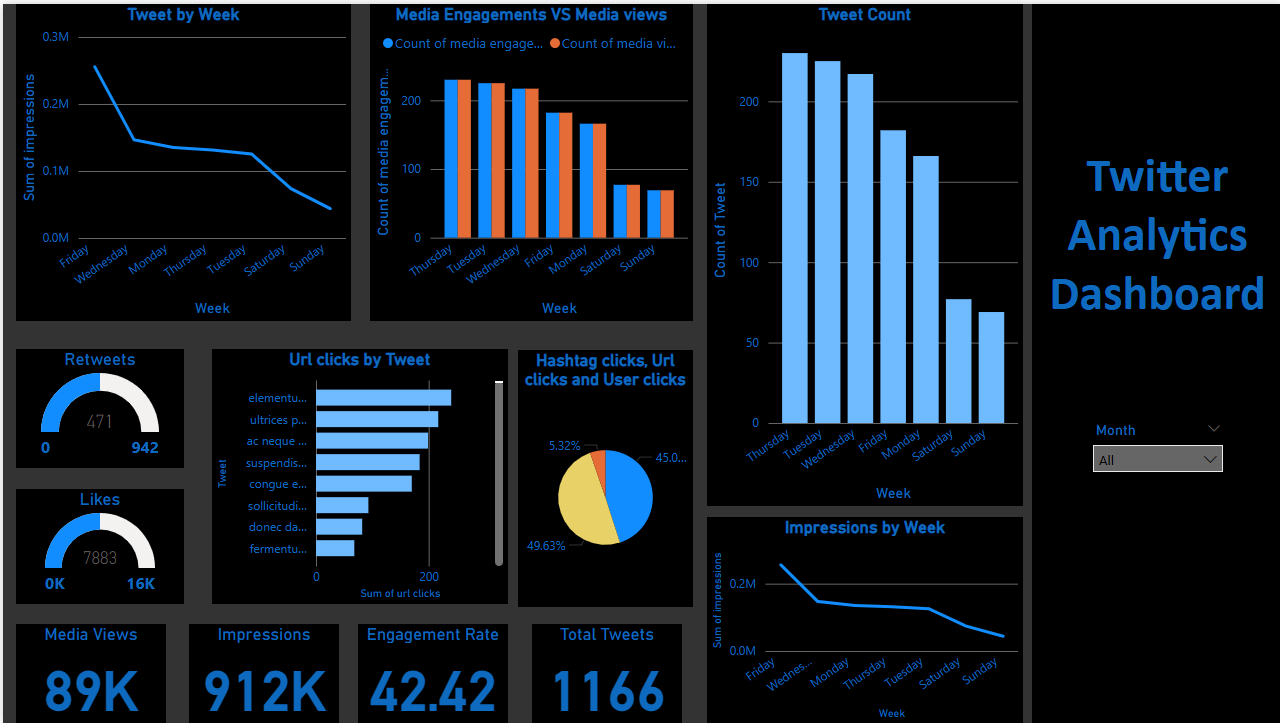

Layout of this report page (visuals, bound fields, positions):
{"tool":"powerbi","page":{"name":"Page 1","canvas":[1280,720],"ordinal":0},"visuals":[{"type":"textbox","box":[1029,0,251,720],"z":0},{"type":"card","title":"Media Views","fields":{"Values":["Sum(SocialMedia.media views)"]},"box":[13,620,150,100],"z":1000},{"type":"card","title":"Impressions","fields":{"Values":["Sum(SocialMedia.impressions)"]},"box":[186,620,150,100],"z":2000},{"type":"card","title":"Engagement Rate","fields":{"Values":["Sum(SocialMedia.engagement rate)"]},"box":[355,620,150,100],"z":3000},{"type":"card","title":"Total Tweets","fields":{"Values":["CountNonNull(SocialMedia.Tweet)"]},"box":[529,620,150,100],"z":4000},{"type":"gauge","title":"Likes","fields":{"Y":["Sum(SocialMedia.likes)"]},"box":[13,485,168,115],"z":5000},{"type":"gauge","title":"Retweets","fields":{"Y":["Sum(SocialMedia.retweets)"]},"box":[13,345,168,119],"z":6000},{"type":"slicer","fields":{"Values":["SocialMedia.Month"]},"box":[1080,413,150,62],"z":7000},{"type":"clusteredColumnChart","title":"Tweet Count","fields":{"Y":["CountNonNull(SocialMedia.Tweet)"],"Category":["SocialMedia.DayofWeek"]},"box":[704,0,316,502],"z":8000},{"type":"lineChart","title":"Impressions by Week","fields":{"Category":["SocialMedia.DayofWeek"],"Y":["Sum(SocialMedia.impressions)"]},"box":[704,513,316,207],"z":9000},{"type":"lineChart","title":"Tweet by Week","fields":{"Category":["SocialMedia.DayofWeek"],"Y":["Sum(SocialMedia.impressions)"]},"box":[13,0,335,317],"z":9001},{"type":"clusteredColumnChart","title":"Media Engagements VS Media views","fields":{"Category":["SocialMedia.DayofWeek"],"Y":["CountNonNull(SocialMedia.media engagements)","CountNonNull(SocialMedia.media views)"]},"box":[367,0,323,317],"z":9002},{"type":"clusteredBarChart","title":"Url clicks by Tweet","fields":{"Y":["Sum(SocialMedia.url clicks)"],"Category":["SocialMedia.Tweet"]},"box":[209,345,296,255],"z":9003},{"type":"pieChart","title":"Hashtag clicks, Url clicks and User clicks","fields":{"Y":["Sum(SocialMedia.user profile clicks)","Sum(SocialMedia.url clicks)","Sum(SocialMedia.hashtag clicks)"]},"box":[515,346,175,257],"z":9004}]}

Visuals, with their boxes in screenshot pixels (x1, y1, x2, y2), scaled from the page's 1280x720 canvas onto the 1280x723 screenshot:
textbox: {"left": 1029, "top": 0, "right": 1279, "bottom": 722}
"Media Views" card: {"left": 13, "top": 623, "right": 163, "bottom": 722}
"Impressions" card: {"left": 186, "top": 623, "right": 336, "bottom": 722}
"Engagement Rate" card: {"left": 355, "top": 623, "right": 505, "bottom": 722}
"Total Tweets" card: {"left": 529, "top": 623, "right": 679, "bottom": 722}
"Likes" gauge: {"left": 13, "top": 487, "right": 181, "bottom": 602}
"Retweets" gauge: {"left": 13, "top": 346, "right": 181, "bottom": 466}
slicer - SocialMedia.Month: {"left": 1080, "top": 415, "right": 1230, "bottom": 477}
"Tweet Count" clusteredColumnChart: {"left": 704, "top": 0, "right": 1020, "bottom": 504}
"Impressions by Week" lineChart: {"left": 704, "top": 515, "right": 1020, "bottom": 722}
"Tweet by Week" lineChart: {"left": 13, "top": 0, "right": 348, "bottom": 318}
"Media Engagements VS Media views" clusteredColumnChart: {"left": 367, "top": 0, "right": 690, "bottom": 318}
"Url clicks by Tweet" clusteredBarChart: {"left": 209, "top": 346, "right": 505, "bottom": 602}
"Hashtag clicks, Url clicks and User clicks" pieChart: {"left": 515, "top": 347, "right": 690, "bottom": 606}
